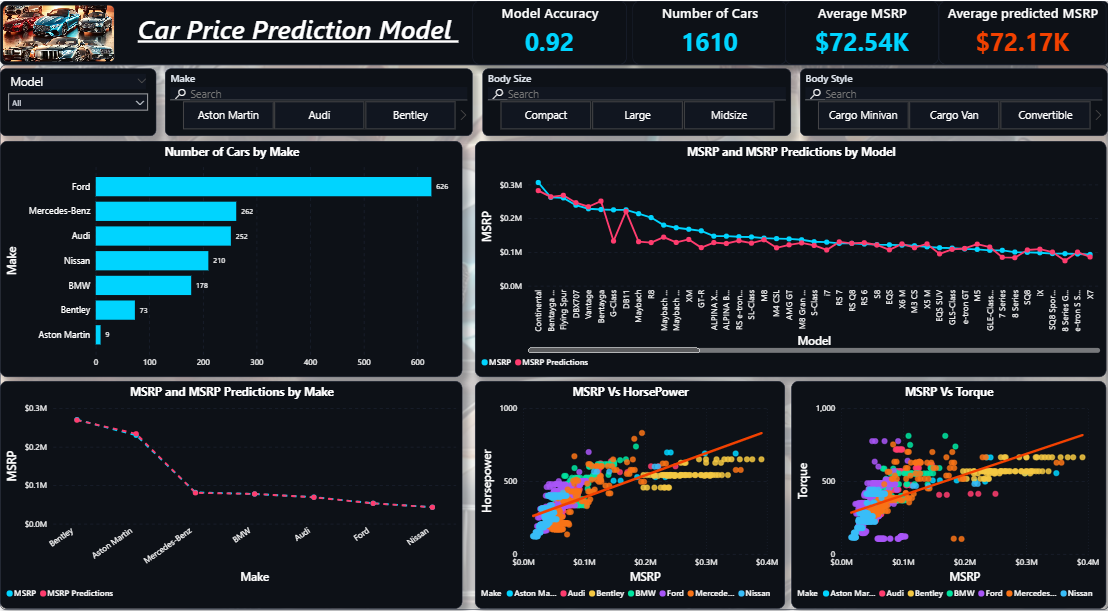

The dashboard page shown, as its layout file describes it:
{"tool":"powerbi","page":{"name":"Automotive Price Intelligence Report","canvas":[1800,1000],"ordinal":0},"visuals":[{"type":"shape","box":[0,0,1800.3,103.7],"z":0},{"type":"image","box":[0,103.5,1800,884.6],"z":1000},{"type":"textbox","box":[200.9,10.1,566.1,83.2],"z":2000},{"type":"slicer","title":"Make","fields":{"Values":["Sheet1.Make"]},"box":[268.5,109.6,499.1,109.6],"z":3000},{"type":"slicer","title":"Body Size","fields":{"Values":["Sheet1.Body Size"]},"box":[782.5,109.6,501.1,109.6],"z":4000},{"type":"slicer","fields":{"Values":["Sheet1.Model"]},"box":[0,109.6,253.6,109.6],"z":5000},{"type":"slicer","title":"Body Style","fields":{"Values":["Sheet1.Body Style"]},"box":[1298.5,109.6,499.1,109.6],"z":6000},{"type":"clusteredBarChart","title":"Number of Cars by Make","fields":{"Category":["Sheet1.Make"],"Y":["CountNonNull(Sheet1.index)"]},"box":[0,226.2,750.7,383.5],"z":7000},{"type":"lineChart","title":"MSRP and MSRP Predictions by Make","fields":{"Category":["Sheet1.Make"],"Y":["Avg(Sheet1.MSRP)","Avg(Sheet1.MSRP Predictions)"]},"box":[0,616.1,750.7,369.3],"z":8000},{"type":"lineChart","title":"MSRP and MSRP Predictions by Model","fields":{"Y":["Avg(Sheet1.MSRP)","Avg(Sheet1.MSRP Predictions)"],"Category":["Sheet1.Model"]},"box":[770.6,226.3,1025,383.6],"z":9000},{"type":"card","title":"Number of Cars","fields":{"Values":["CountNonNull(Sheet1.index)"]},"box":[1026.8,0,250,103.5],"z":10000},{"type":"card","title":"Average MSRP","fields":{"Values":["Avg(Sheet1.MSRP)"]},"box":[1274.1,0,249.6,103.5],"z":11000},{"type":"card","title":"Average predicted MSRP ","fields":{"Values":["Avg(Sheet1.MSRP Predictions)"]},"box":[1523.7,0,271.9,103.5],"z":12000},{"type":"scatterChart","title":"MSRP Vs HorsePower","fields":{"Series":["Sheet1.Make"],"X":["Sheet1.MSRP"],"Y":["Sheet1.Horsepower_No"]},"box":[771,616.1,503.2,369.3],"z":13000},{"type":"scatterChart","title":"MSRP Vs Torque","fields":{"Series":["Sheet1.Make"],"X":["Sheet1.MSRP"],"Y":["Sheet1.Torque_No"]},"box":[1284.3,616.1,511,369.3],"z":14000},{"type":"image","box":[4.1,6.1,182.6,93.3],"z":14001},{"type":"card","title":"Model Accuracy","fields":{"Values":["Sheet1.Model Accuracy"]},"box":[767,0,250,103.5],"z":14002}]}

Visuals, with their boxes in screenshot pixels (x1, y1, x2, y2), scaled from the page's 1800x1000 canvas onto the 1108x611 screenshot:
shape: {"x1": 0, "y1": 0, "x2": 1107, "y2": 63}
image: {"x1": 0, "y1": 63, "x2": 1107, "y2": 604}
textbox: {"x1": 124, "y1": 6, "x2": 472, "y2": 57}
"Make" slicer: {"x1": 165, "y1": 67, "x2": 473, "y2": 134}
"Body Size" slicer: {"x1": 482, "y1": 67, "x2": 790, "y2": 134}
slicer - Sheet1.Model: {"x1": 0, "y1": 67, "x2": 156, "y2": 134}
"Body Style" slicer: {"x1": 799, "y1": 67, "x2": 1107, "y2": 134}
"Number of Cars by Make" clusteredBarChart: {"x1": 0, "y1": 138, "x2": 462, "y2": 373}
"MSRP and MSRP Predictions by Make" lineChart: {"x1": 0, "y1": 376, "x2": 462, "y2": 602}
"MSRP and MSRP Predictions by Model" lineChart: {"x1": 474, "y1": 138, "x2": 1105, "y2": 373}
"Number of Cars" card: {"x1": 632, "y1": 0, "x2": 786, "y2": 63}
"Average MSRP" card: {"x1": 784, "y1": 0, "x2": 938, "y2": 63}
"Average predicted MSRP " card: {"x1": 938, "y1": 0, "x2": 1105, "y2": 63}
"MSRP Vs HorsePower" scatterChart: {"x1": 475, "y1": 376, "x2": 784, "y2": 602}
"MSRP Vs Torque" scatterChart: {"x1": 791, "y1": 376, "x2": 1105, "y2": 602}
image: {"x1": 3, "y1": 4, "x2": 115, "y2": 61}
"Model Accuracy" card: {"x1": 472, "y1": 0, "x2": 626, "y2": 63}
